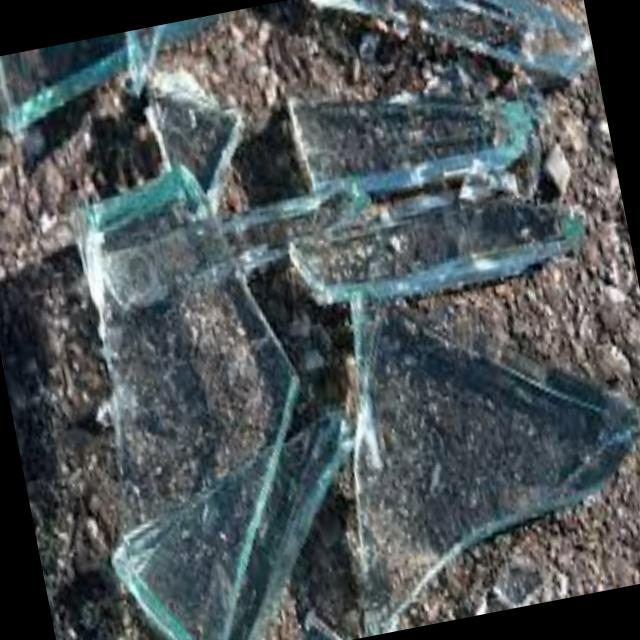PecahanKaca: (38, 144, 344, 640), (305, 258, 640, 631)
